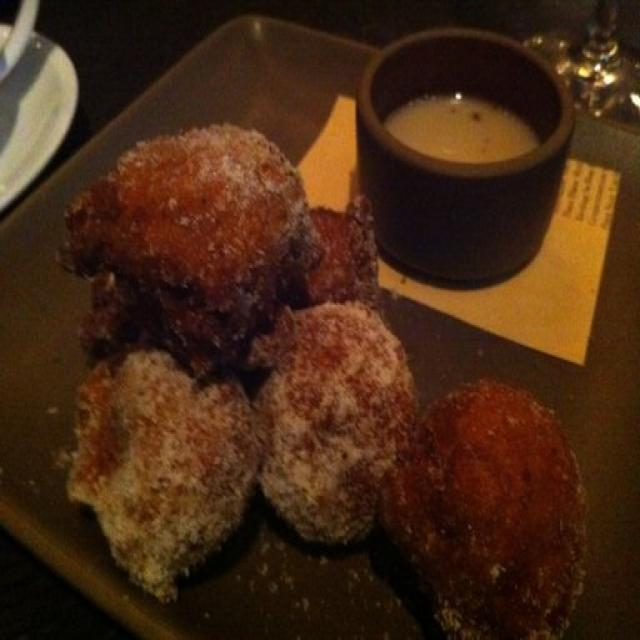Donuts: (49, 124, 409, 626)
